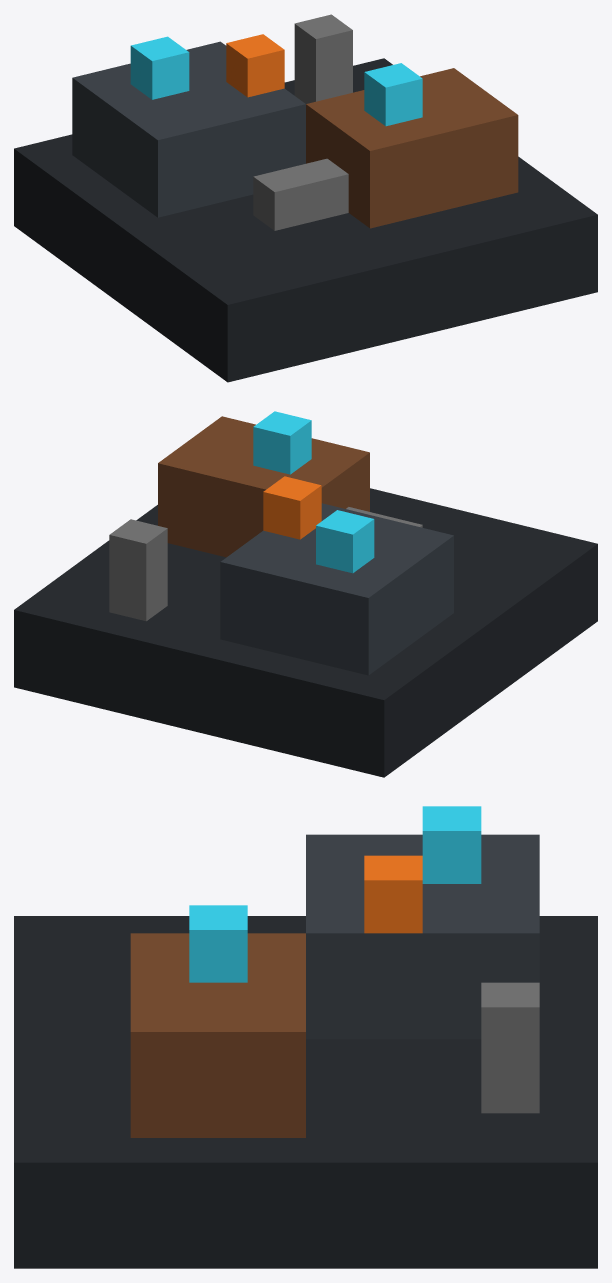
Rendered from prop_salvage.glb.
3 renders of one model, top to bottom at view 1: azimuth 30°, elevation 25°; view 2: azimuth 150°, elevation 25°; view 3: azimuth 270°, elevation 25°, orthographic. The views are drawn at different scales.
Parts seen in each view (by area): view 1: Plate mesh, Hull mesh, Glint mesh, Shard mesh; view 2: Plate mesh, Hull mesh, Glint mesh, Shard mesh; view 3: Plate mesh, Hull mesh, Glint mesh, Shard mesh.
Part boxes in pixels (<box>): Plate mesh: <box>14,58,597,382</box>; Hull mesh: <box>72,41,518,228</box>; Glint mesh: <box>130,34,422,126</box>; Shard mesh: <box>294,14,352,103</box>; Plate mesh: <box>14,488,597,777</box>; Hull mesh: <box>158,416,453,675</box>; Glint mesh: <box>253,411,374,573</box>; Shard mesh: <box>109,519,167,621</box>; Plate mesh: <box>14,916,597,1268</box>; Hull mesh: <box>130,834,539,1137</box>; Glint mesh: <box>189,806,481,982</box>; Shard mesh: <box>481,982,539,1113</box>.
Size of the model in its own units: 10 by 5 by 10.
1 material, 1 textured.
